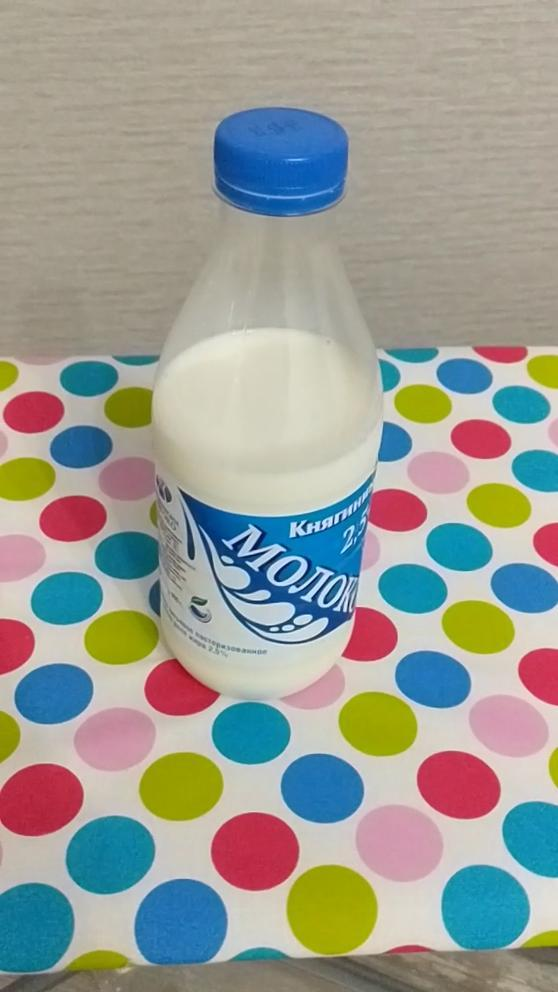milk: (133, 86, 397, 712)
